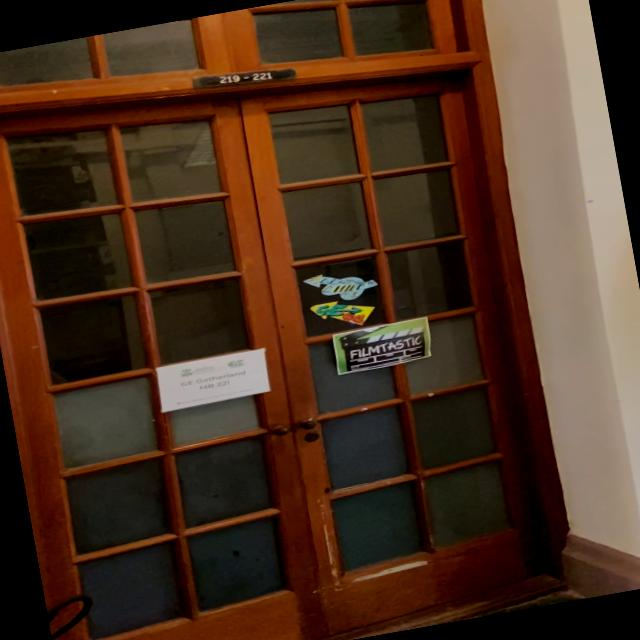room221: (192, 56, 302, 98)
